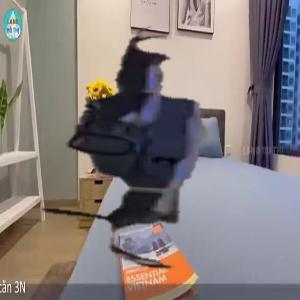drone: (25, 20, 281, 276)
